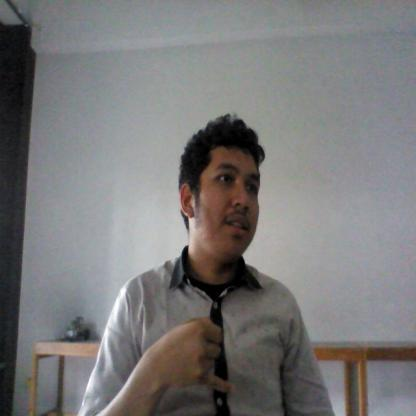J: (140, 311, 236, 407)
